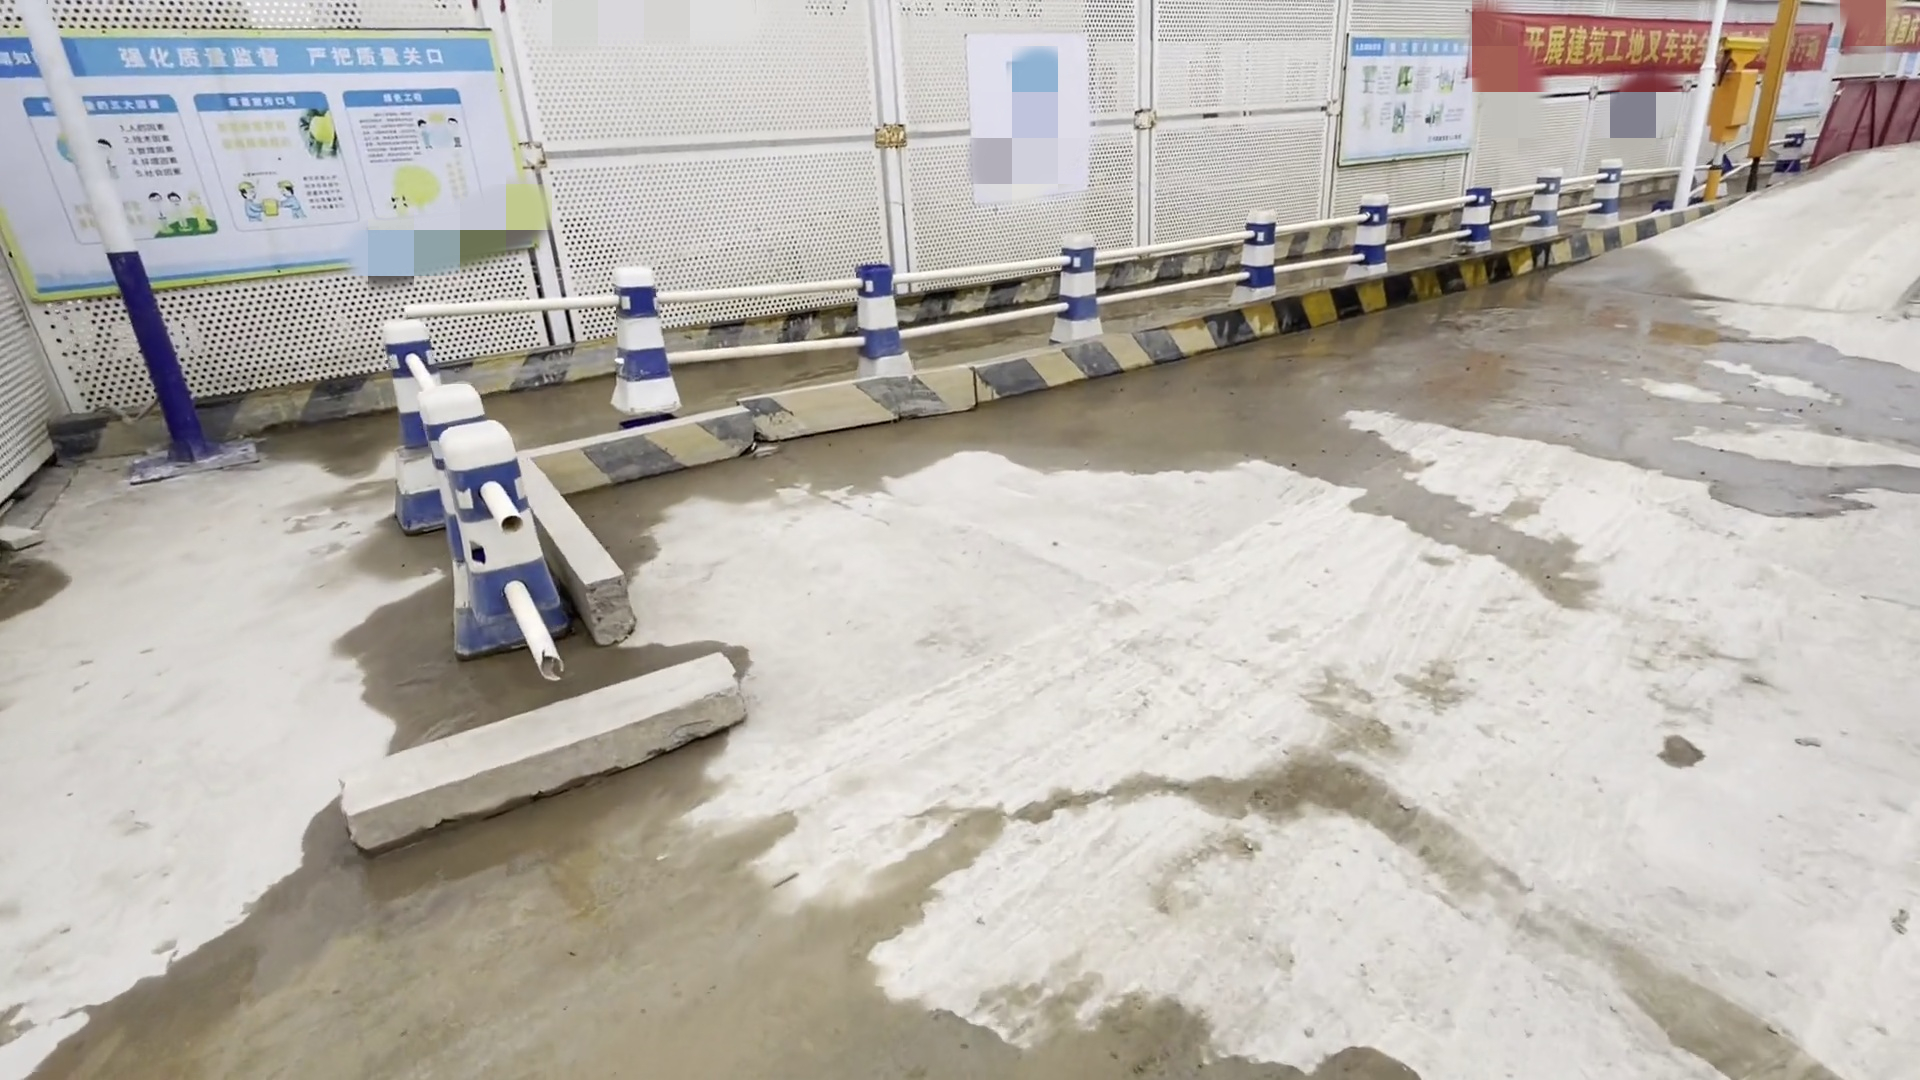fence: (1812, 57, 1920, 161)
slogan: (1, 45, 521, 290), (1469, 15, 1920, 102), (1317, 3, 1491, 166)
